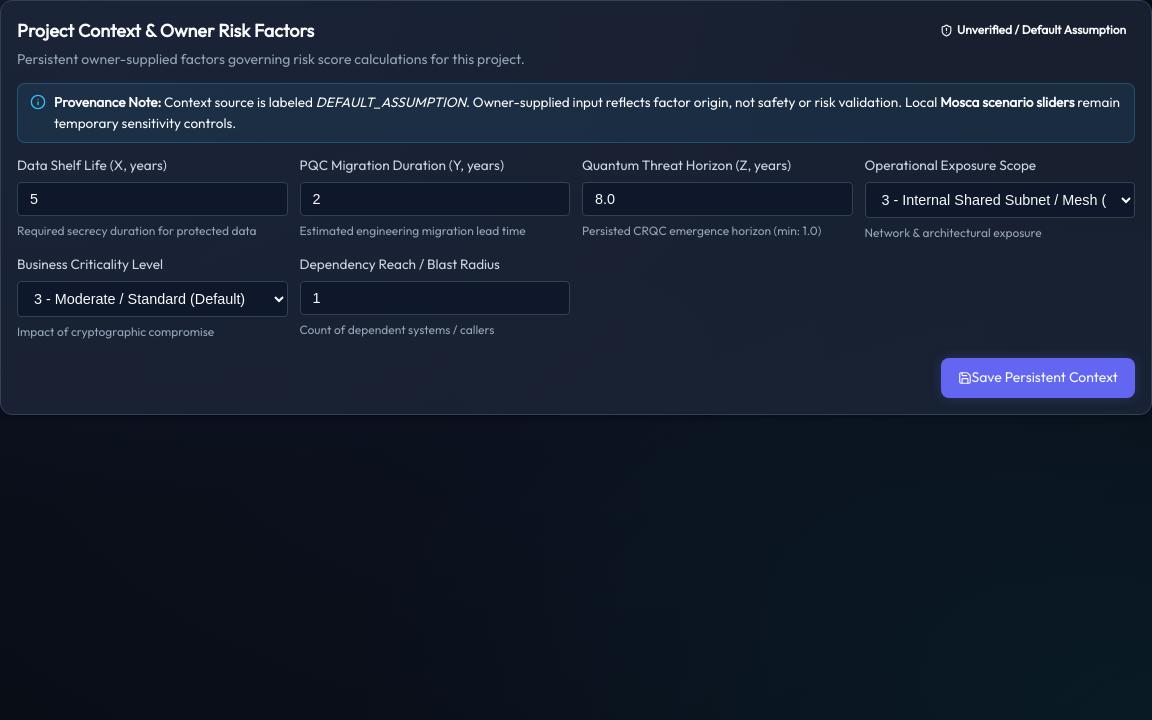
Test case: ContextEditor Component › handles API rejection gracefully
The width and height of the screenshot is (1152, 720).
Click the button with test id "save-context-btn": x=1038, y=378 [940,358,1135,398]
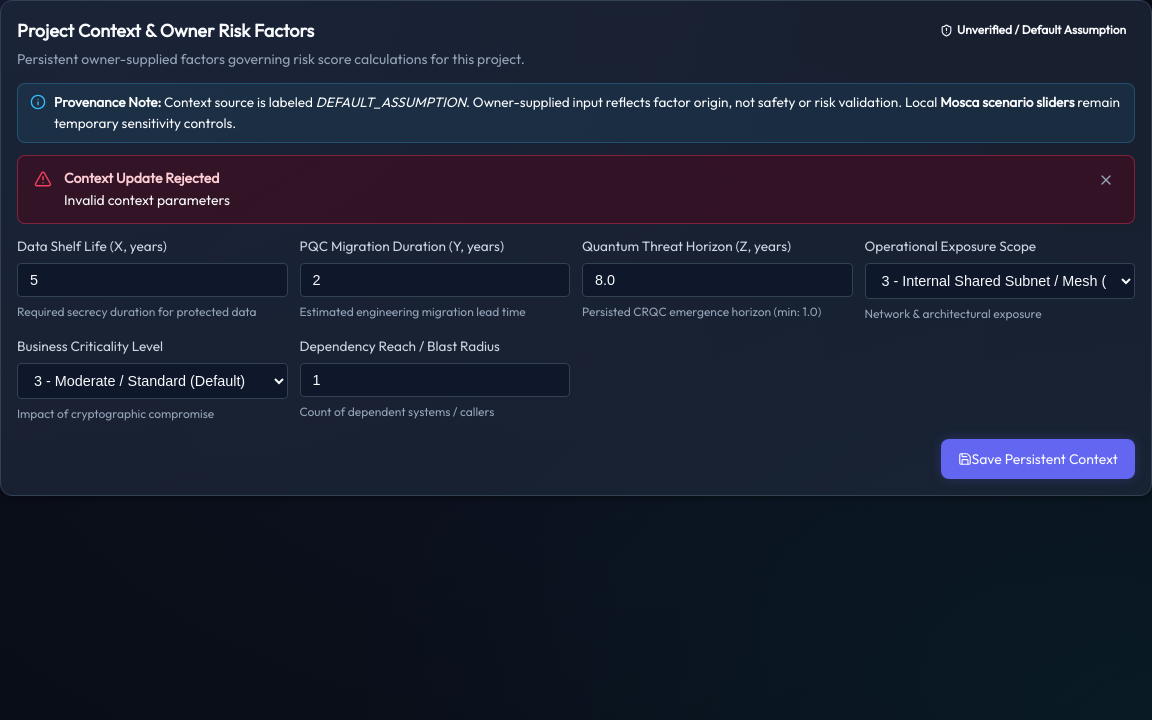
Result: the text "Invalid context parameters" is shown at [64,191,230,209]
